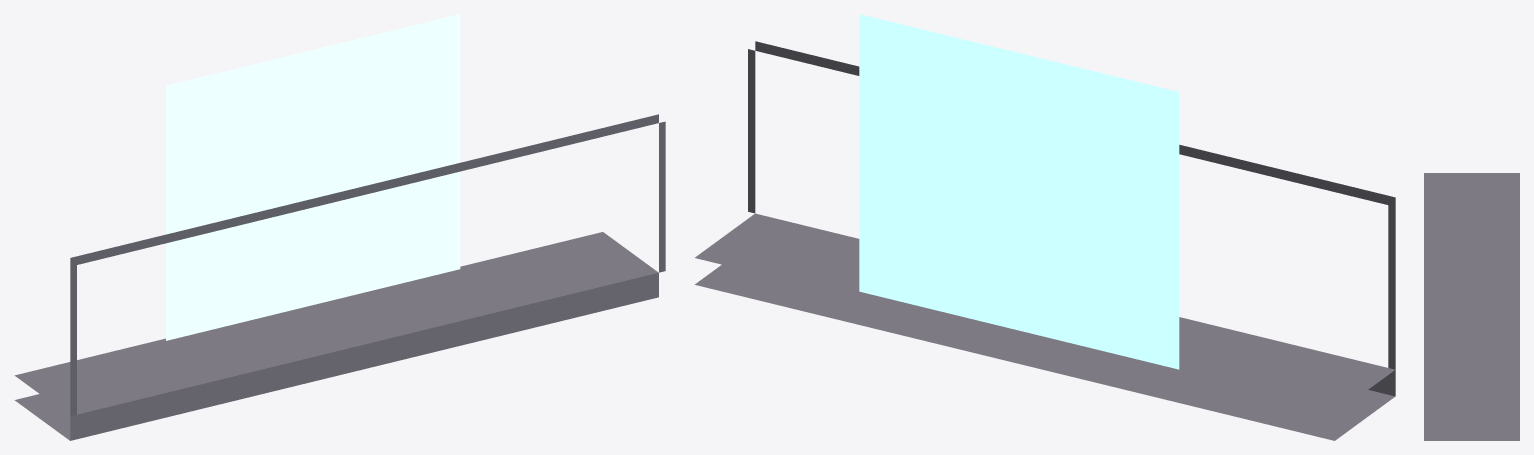
File: balcony.glb
The picture shows the model from 3 angles, left to right: view 1: azimuth 30°, elevation 25°; view 2: azimuth 150°, elevation 25°; view 3: azimuth 270°, elevation 25°; orthographic projection. The views are drawn at different scales.
Visible parts, largest first — view 1: balcony; view 2: balcony; view 3: balcony.
Boxes of the visible parts, x1,y1,x2,y2 form: balcony: [14, 14, 665, 440]; balcony: [694, 14, 1395, 440]; balcony: [1424, 173, 1519, 440].
Size of the model in its own units: 3.54 by 1.6 by 0.575.
